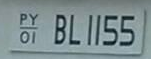5: (119, 15, 136, 47), (103, 14, 119, 47)
B: (54, 14, 68, 45)
I: (95, 14, 101, 47), (87, 14, 93, 46), (31, 31, 37, 44)
L: (69, 14, 81, 46)
O: (19, 30, 30, 44)
P: (19, 13, 28, 26)
Y: (28, 13, 39, 26)
